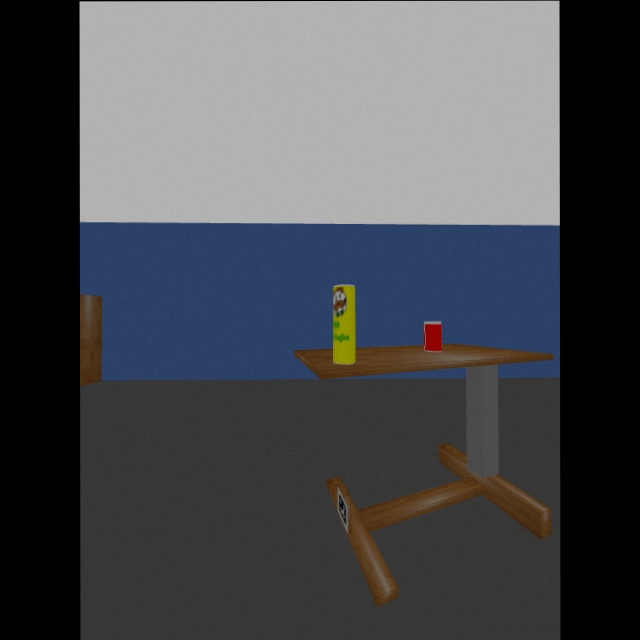chipsdose_gelb: (331, 284, 356, 365)
